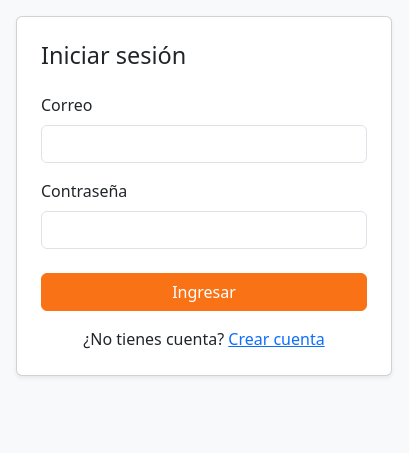
página Login › muestra una alerta cuando las credenciales son incorrectas
The image size is (409, 453).
Type "cliente@novashop.cl" into the field labelled "Correo" at (204, 144), box [41,125,367,163]
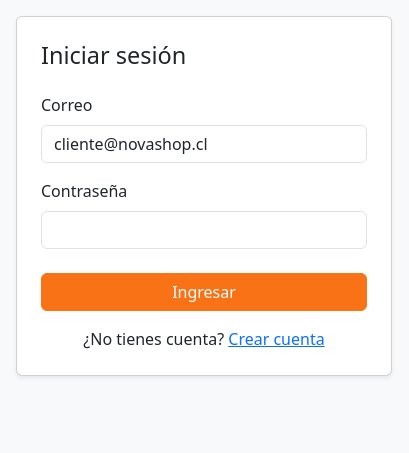
Type "ClaveEquivocada1" into the password field labelled "Contraseña" at (204, 230), box [41,211,367,249]
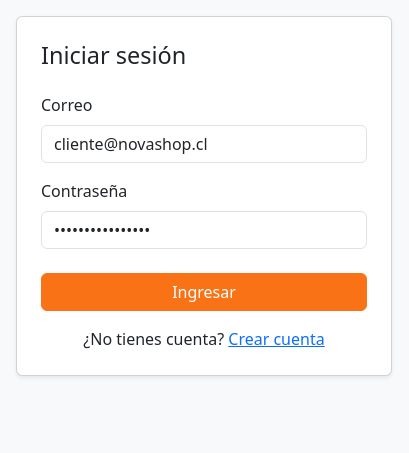
Click the button "Ingresar" at (204, 292), box [41,273,367,311]
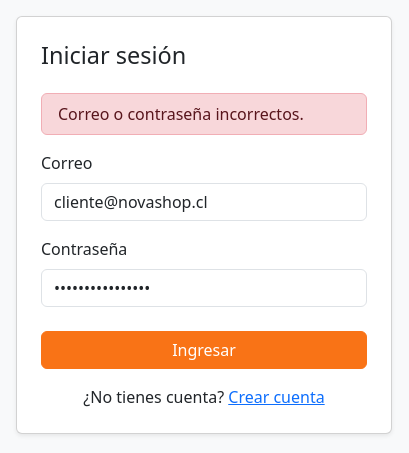
Expected: the message reads "Correo o contraseña incorrectos.", [58,103,304,125]
